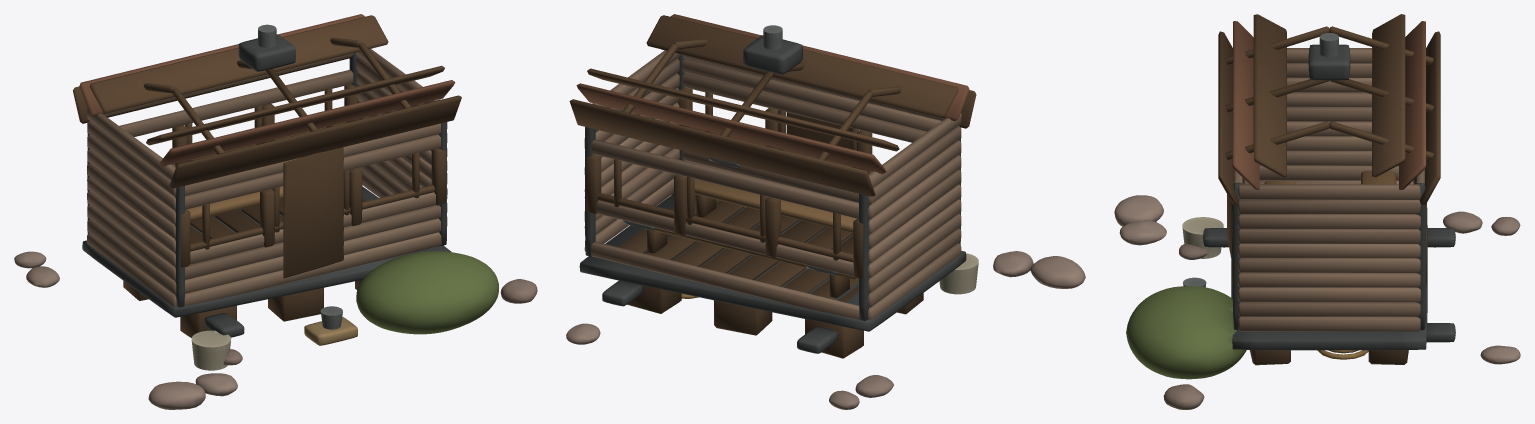
File: tram_car_parked_c.glb
The picture shows the model from 3 angles, left to right: view 1: azimuth 30°, elevation 25°; view 2: azimuth 150°, elevation 25°; view 3: azimuth 270°, elevation 25°; orthographic projection. The views are drawn at different scales.
Parts seen in each view (by area): view 1: Surface; view 2: Surface; view 3: Surface.
Boxes of the visible parts, <box> form: Surface: <box>14,14,537,409</box>; Surface: <box>566,14,1085,409</box>; Surface: <box>1114,14,1520,409</box>.
Size of the model in its own units: 6.96 by 4.42 by 5.79.
